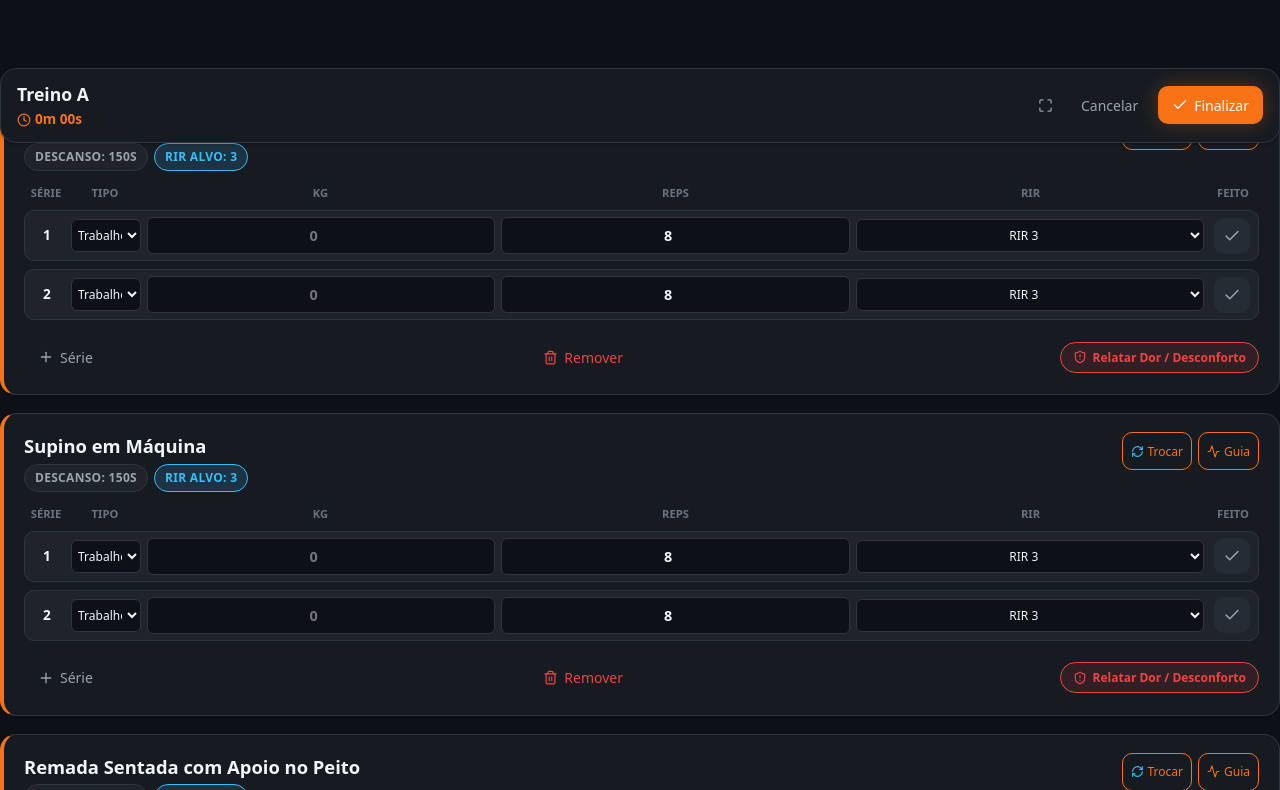
Test: ActiveWorkoutScreen Component › permite abrir o modal de relato de dor e salvar
Step 1. Click the button with aria-label "relatar dor ou desconforto neste exercício" → [1159, 357], box [1060,342,1259,373]
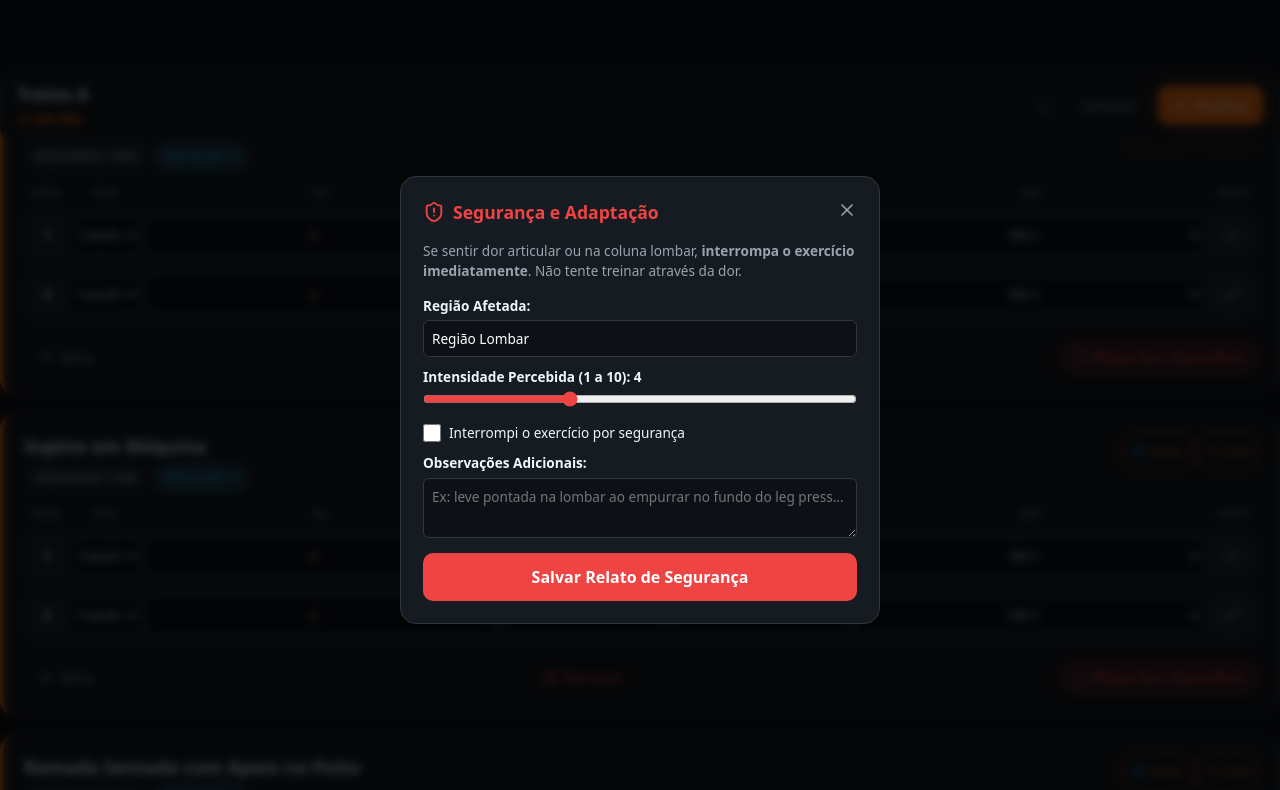
Expected: the heading "Segurança e Adaptação" is shown, [453,199,659,226]
Step 2. Click the button "Salvar Relato de Segurança" → [640, 577], box [423,553,857,601]
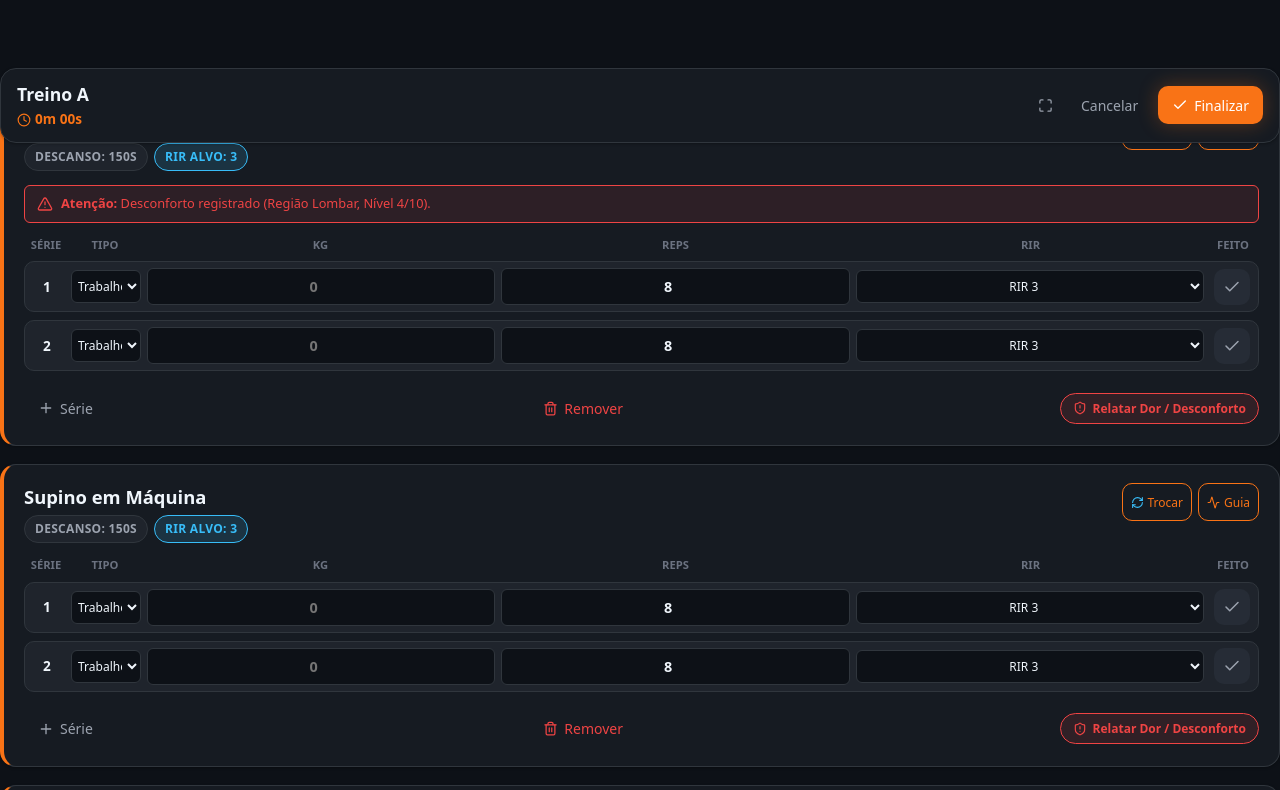
Expected: the heading "Segurança e Adaptação" is gone
